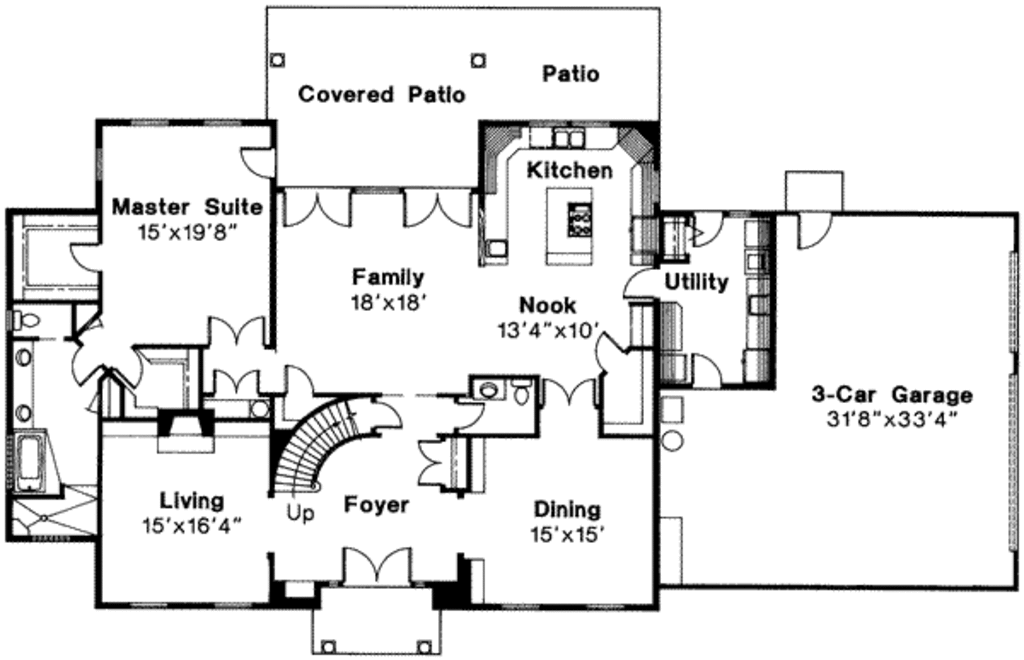door: (279, 180, 356, 230), (395, 185, 475, 230), (338, 546, 414, 590), (200, 314, 266, 350), (537, 374, 599, 409), (791, 206, 836, 254), (415, 438, 456, 490), (110, 345, 149, 393), (278, 362, 320, 402), (686, 351, 724, 395), (689, 205, 725, 249), (66, 237, 103, 278), (210, 367, 263, 395), (367, 399, 407, 436), (69, 341, 100, 388), (619, 268, 660, 303), (594, 330, 626, 374), (238, 143, 275, 179), (450, 398, 490, 431)
large_sink: (506, 375, 539, 410), (8, 307, 43, 332)
small_sink: (11, 340, 42, 426), (473, 374, 508, 403)
stairs: (275, 402, 364, 496)
tub: (6, 430, 50, 496)
twin_sink: (548, 127, 588, 155)
